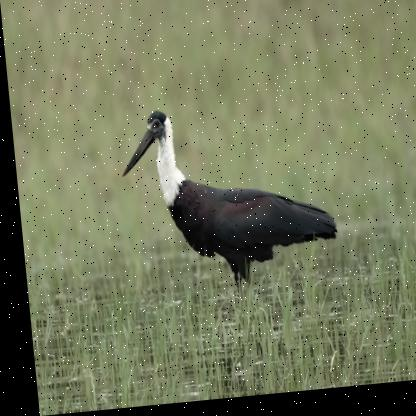Burung: (110, 93, 339, 311)
